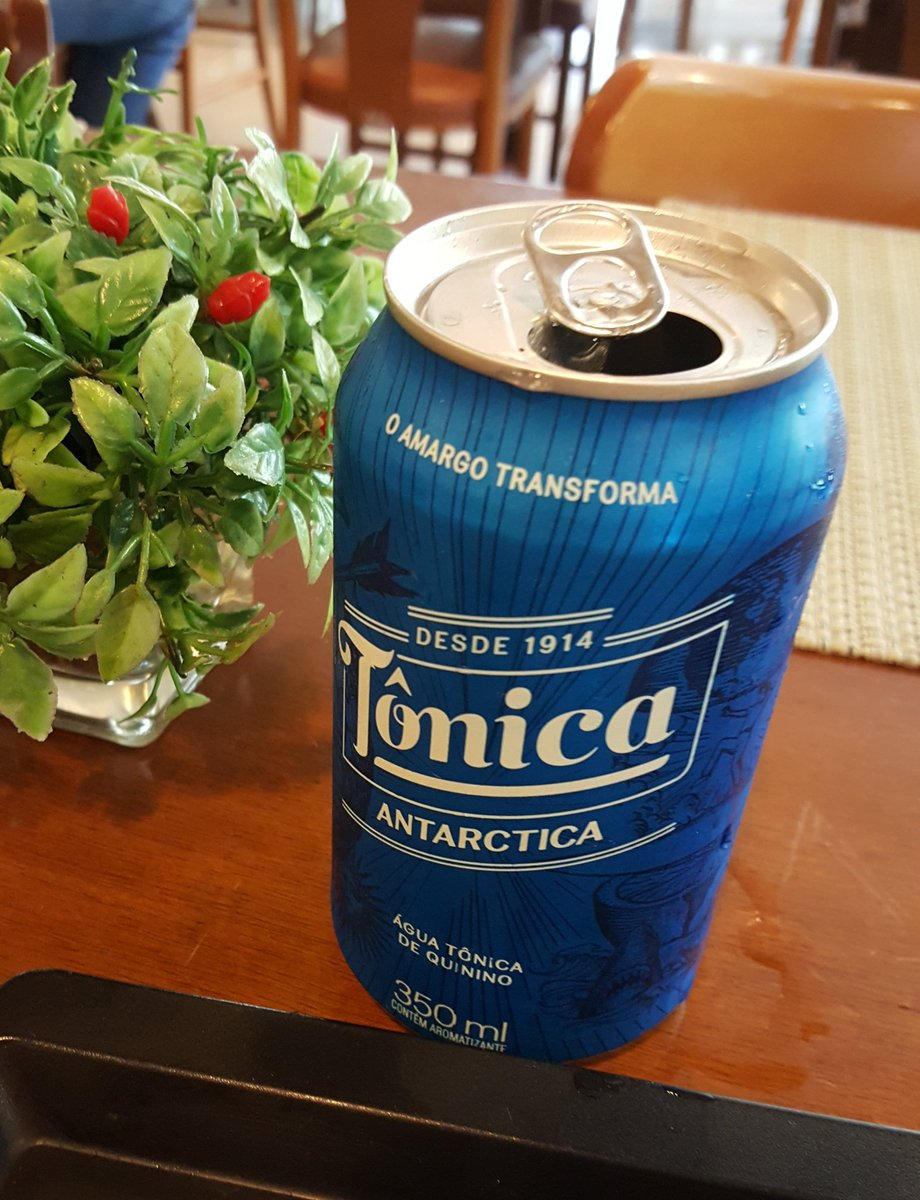tonica: (309, 167, 882, 1097)
